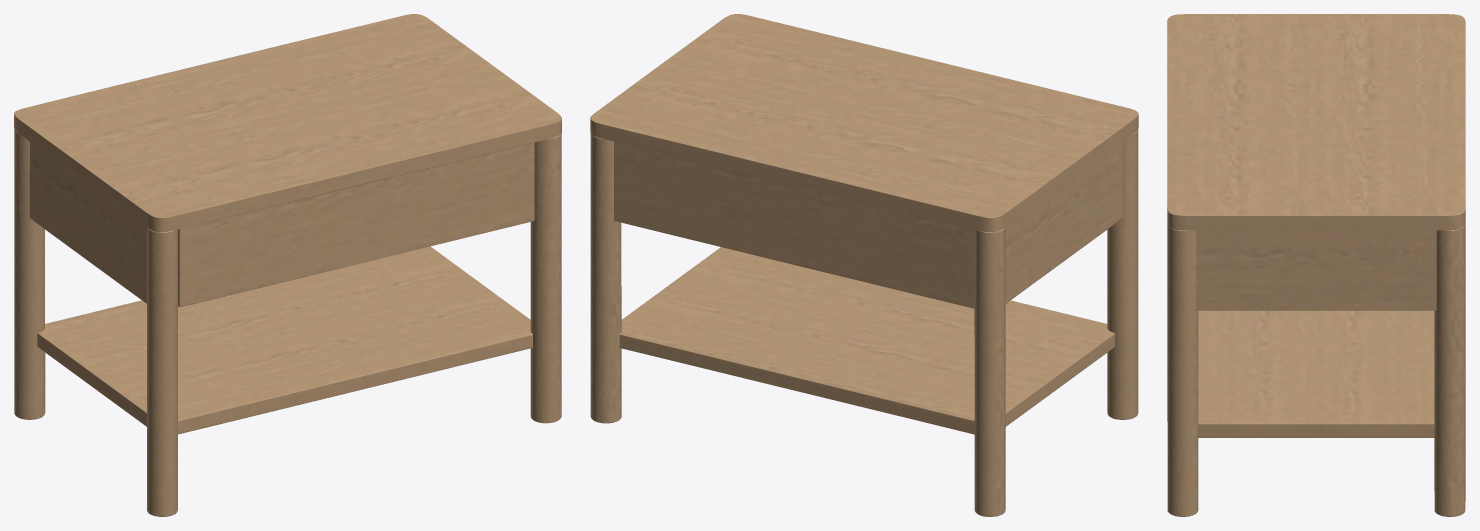
3 renders of one model, left to right at view 1: azimuth 30°, elevation 25°; view 2: azimuth 150°, elevation 25°; view 3: azimuth 270°, elevation 25°, orthographic.
Parts seen in each view (by area): view 1: Mesh_0; view 2: Mesh_0; view 3: Mesh_0.
Part boxes in pixels (x1=…): Mesh_0: x1=14, y1=14, x2=561, y2=516; Mesh_0: x1=590, y1=14, x2=1138, y2=516; Mesh_0: x1=1167, y1=14, x2=1465, y2=516.
Size of the model in its own units: 0.64 by 0.45 by 0.4002.
1 material, 1 textured.
